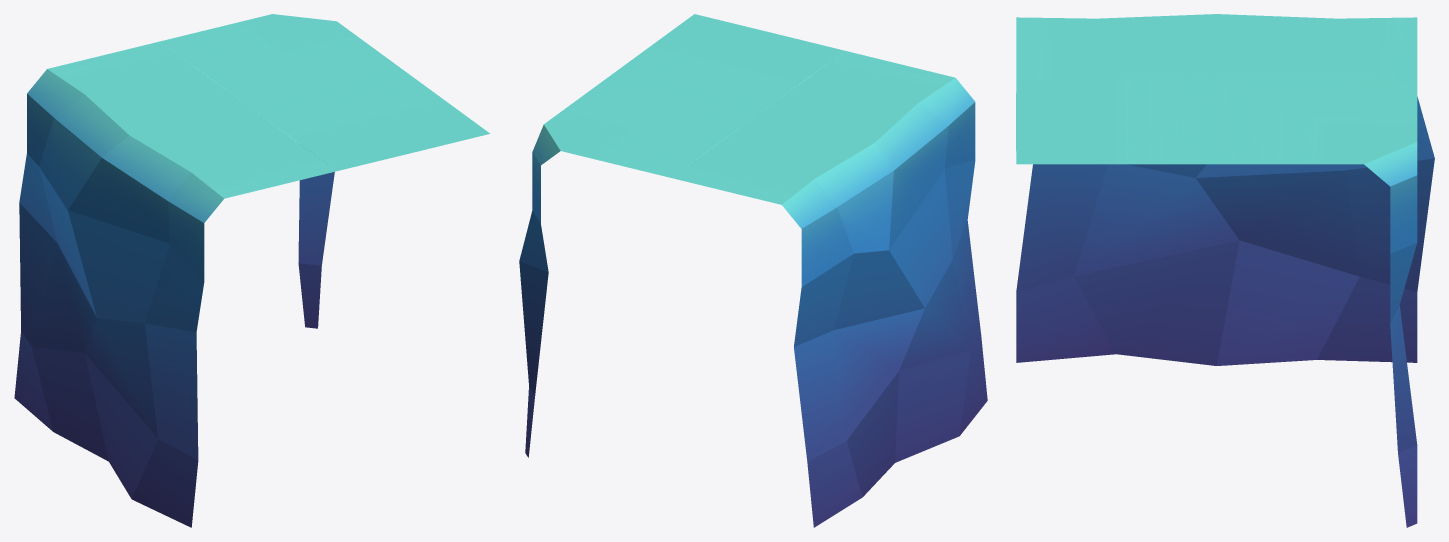
3 renders of one model, left to right at view 1: azimuth 30°, elevation 25°; view 2: azimuth 150°, elevation 25°; view 3: azimuth 270°, elevation 25°, orthographic. The views are drawn at different scales.
Parts seen in each view (by area): view 1: Side.010, SideSmallRight.007, TopNoWalls.009, TopInnerCorner.012, TopSide.013, TopSide.014, SideSmallLeft.007, InnerCorner.013; view 2: Side.010, SideSmallLeft.007, TopNoWalls.009, TopInnerCorner.012, TopSide.013, TopSide.014, SideSmallRight.007, InnerCorner.013; view 3: Side.010, TopNoWalls.009, TopInnerCorner.012, SideSmallRight.007, TopSide.013, TopSide.014, SideSmallLeft.007, InnerCorner.013.
Part boxes in pixels (bbox=[...]): Side.010: bbox=[31, 94, 190, 498]; SideSmallRight.007: bbox=[132, 172, 223, 527]; TopNoWalls.009: bbox=[249, 69, 490, 170]; TopInnerCorner.012: bbox=[160, 14, 401, 106]; TopSide.013: bbox=[47, 41, 247, 135]; TopSide.014: bbox=[130, 106, 336, 198]; SideSmallLeft.007: bbox=[14, 69, 84, 431]; InnerCorner.013: bbox=[298, 172, 334, 328]; Side.010: bbox=[815, 103, 970, 496]; SideSmallLeft.007: bbox=[782, 179, 862, 527]; TopNoWalls.009: bbox=[608, 14, 844, 114]; TopInnerCorner.012: bbox=[544, 77, 757, 177]; TopSide.013: bbox=[672, 114, 874, 204]; TopSide.014: bbox=[758, 50, 954, 142]; SideSmallRight.007: bbox=[919, 78, 987, 435]; InnerCorner.013: bbox=[519, 124, 560, 457]; Side.010: bbox=[1074, 164, 1359, 365]; TopNoWalls.009: bbox=[1016, 79, 1216, 164]; TopInnerCorner.012: bbox=[1216, 79, 1417, 164]; SideSmallRight.007: bbox=[1016, 164, 1115, 362]; TopSide.013: bbox=[1216, 14, 1417, 79]; TopSide.014: bbox=[1016, 14, 1216, 79]; SideSmallLeft.007: bbox=[1317, 96, 1434, 362]; InnerCorner.013: bbox=[1364, 142, 1417, 527].
Size of the model in its own units: 321 by 300 by 313.
